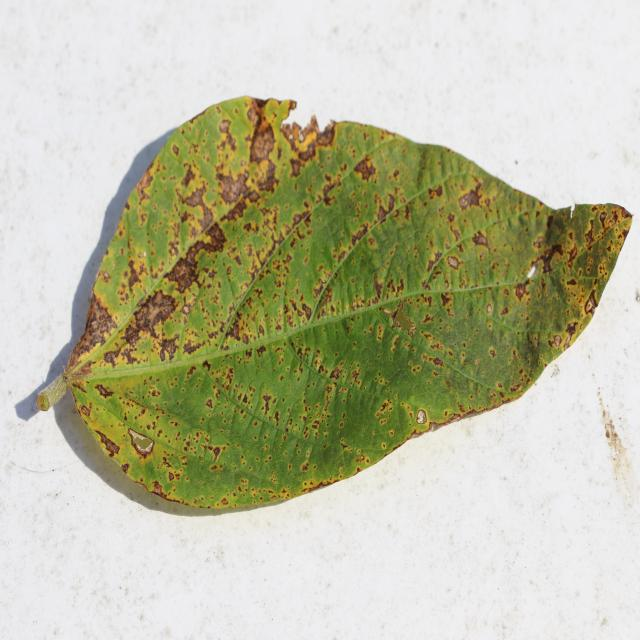Bacterial_Blight: (307, 374, 344, 435), (422, 404, 481, 436), (83, 299, 118, 352), (134, 292, 175, 336), (168, 252, 202, 293), (596, 205, 632, 243), (381, 300, 417, 335), (216, 169, 249, 205), (400, 400, 429, 434), (463, 175, 488, 214), (128, 429, 155, 457), (183, 183, 209, 212), (540, 244, 564, 275), (94, 429, 120, 455), (375, 192, 396, 223), (314, 285, 335, 316), (126, 258, 145, 291), (217, 124, 237, 155), (225, 314, 246, 343), (135, 165, 154, 196), (353, 156, 376, 181), (256, 168, 278, 192), (445, 213, 463, 242), (349, 222, 369, 247), (316, 123, 336, 147), (202, 442, 223, 463), (426, 251, 443, 274), (513, 281, 531, 302), (471, 230, 490, 249), (94, 383, 114, 399), (584, 221, 596, 247), (376, 399, 392, 417), (585, 293, 597, 316), (427, 184, 443, 201), (527, 332, 540, 351), (291, 122, 303, 142), (289, 158, 302, 176), (151, 480, 165, 496), (565, 321, 578, 338), (440, 292, 453, 309), (261, 395, 272, 415), (300, 302, 312, 320), (374, 278, 384, 298), (527, 263, 539, 279), (447, 256, 461, 269), (429, 356, 444, 368), (80, 404, 91, 418), (330, 367, 341, 380), (376, 324, 384, 341), (238, 393, 249, 405), (552, 335, 562, 348), (509, 383, 521, 392), (599, 211, 607, 224), (202, 360, 211, 371), (121, 463, 130, 474), (500, 305, 508, 316), (205, 398, 213, 409), (351, 369, 359, 380), (172, 144, 179, 156), (486, 303, 493, 315), (103, 271, 111, 281), (168, 471, 175, 481), (221, 497, 229, 505), (138, 251, 146, 259), (489, 349, 496, 358), (605, 428, 611, 438), (388, 430, 394, 437), (381, 442, 386, 450)
Soybean: (37, 98, 631, 508)
